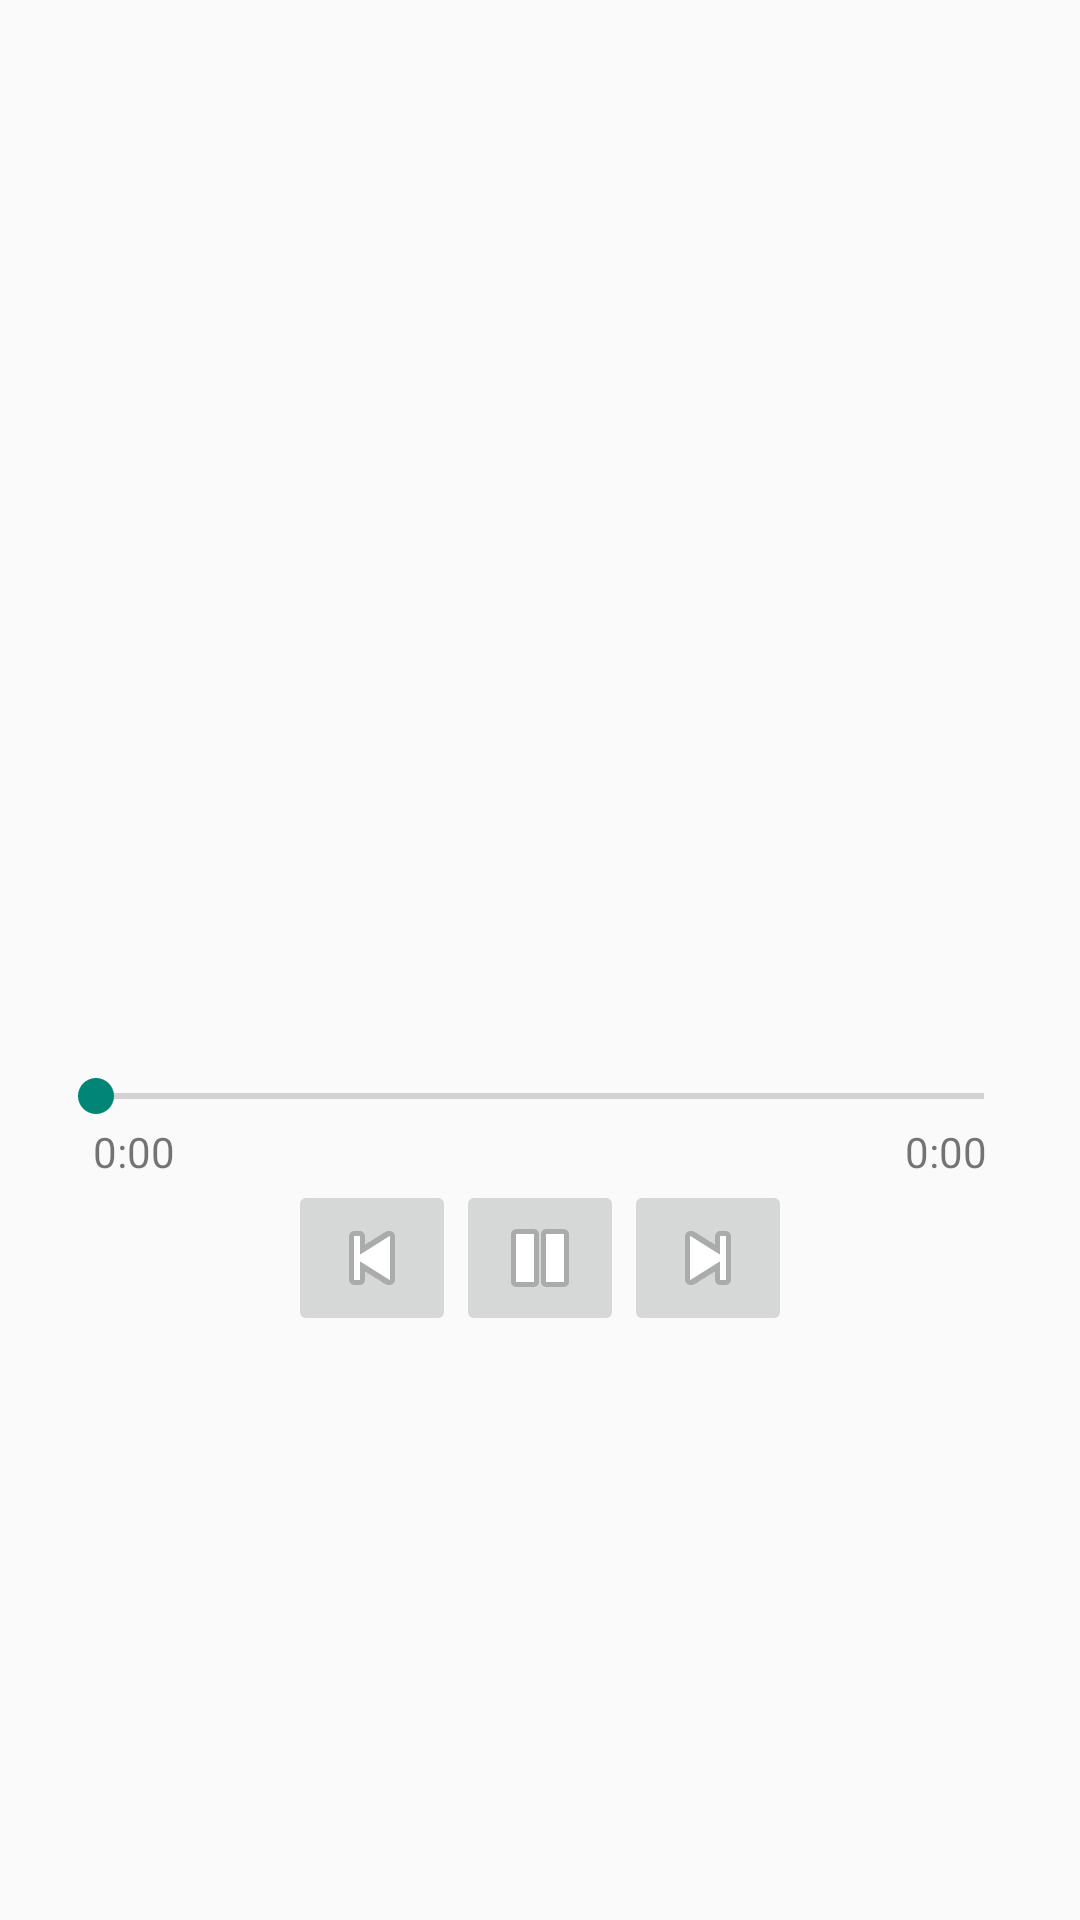

Screen size 1080 x 1920. Icon name, then its center in pixels as (x,y):
next: (708,1258)
pause: (540,1258)
previous: (372,1258)
